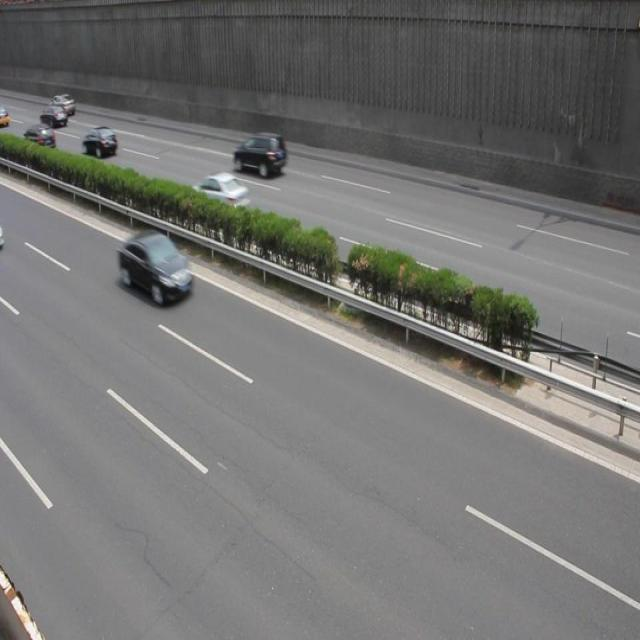car: (118, 230, 194, 308), (186, 171, 251, 225), (232, 131, 287, 177), (82, 124, 119, 160), (22, 124, 57, 156), (40, 103, 69, 129), (49, 92, 75, 117)
